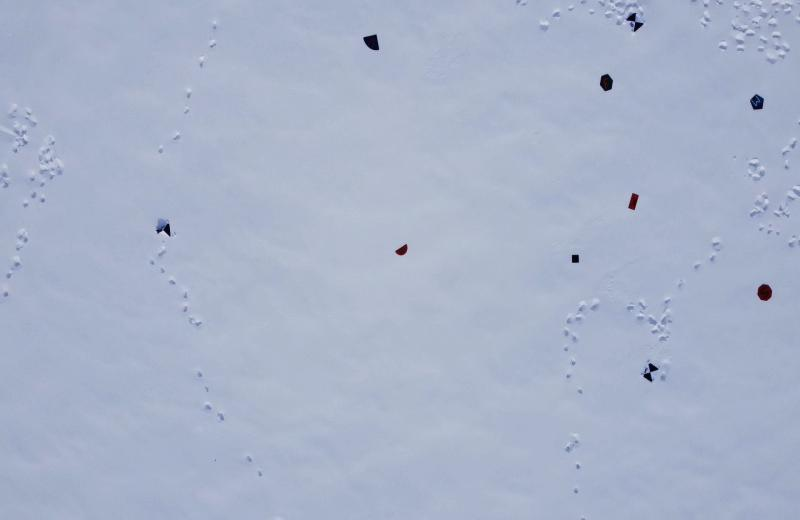Hexagon: (598, 73, 615, 93)
Octagon: (757, 283, 773, 303)
Pentagon: (750, 94, 764, 112)
Quarter Circle: (361, 33, 381, 54)
Rectangle: (627, 192, 641, 212)
Semi Circle: (395, 244, 409, 256)
Square: (570, 253, 580, 264)
